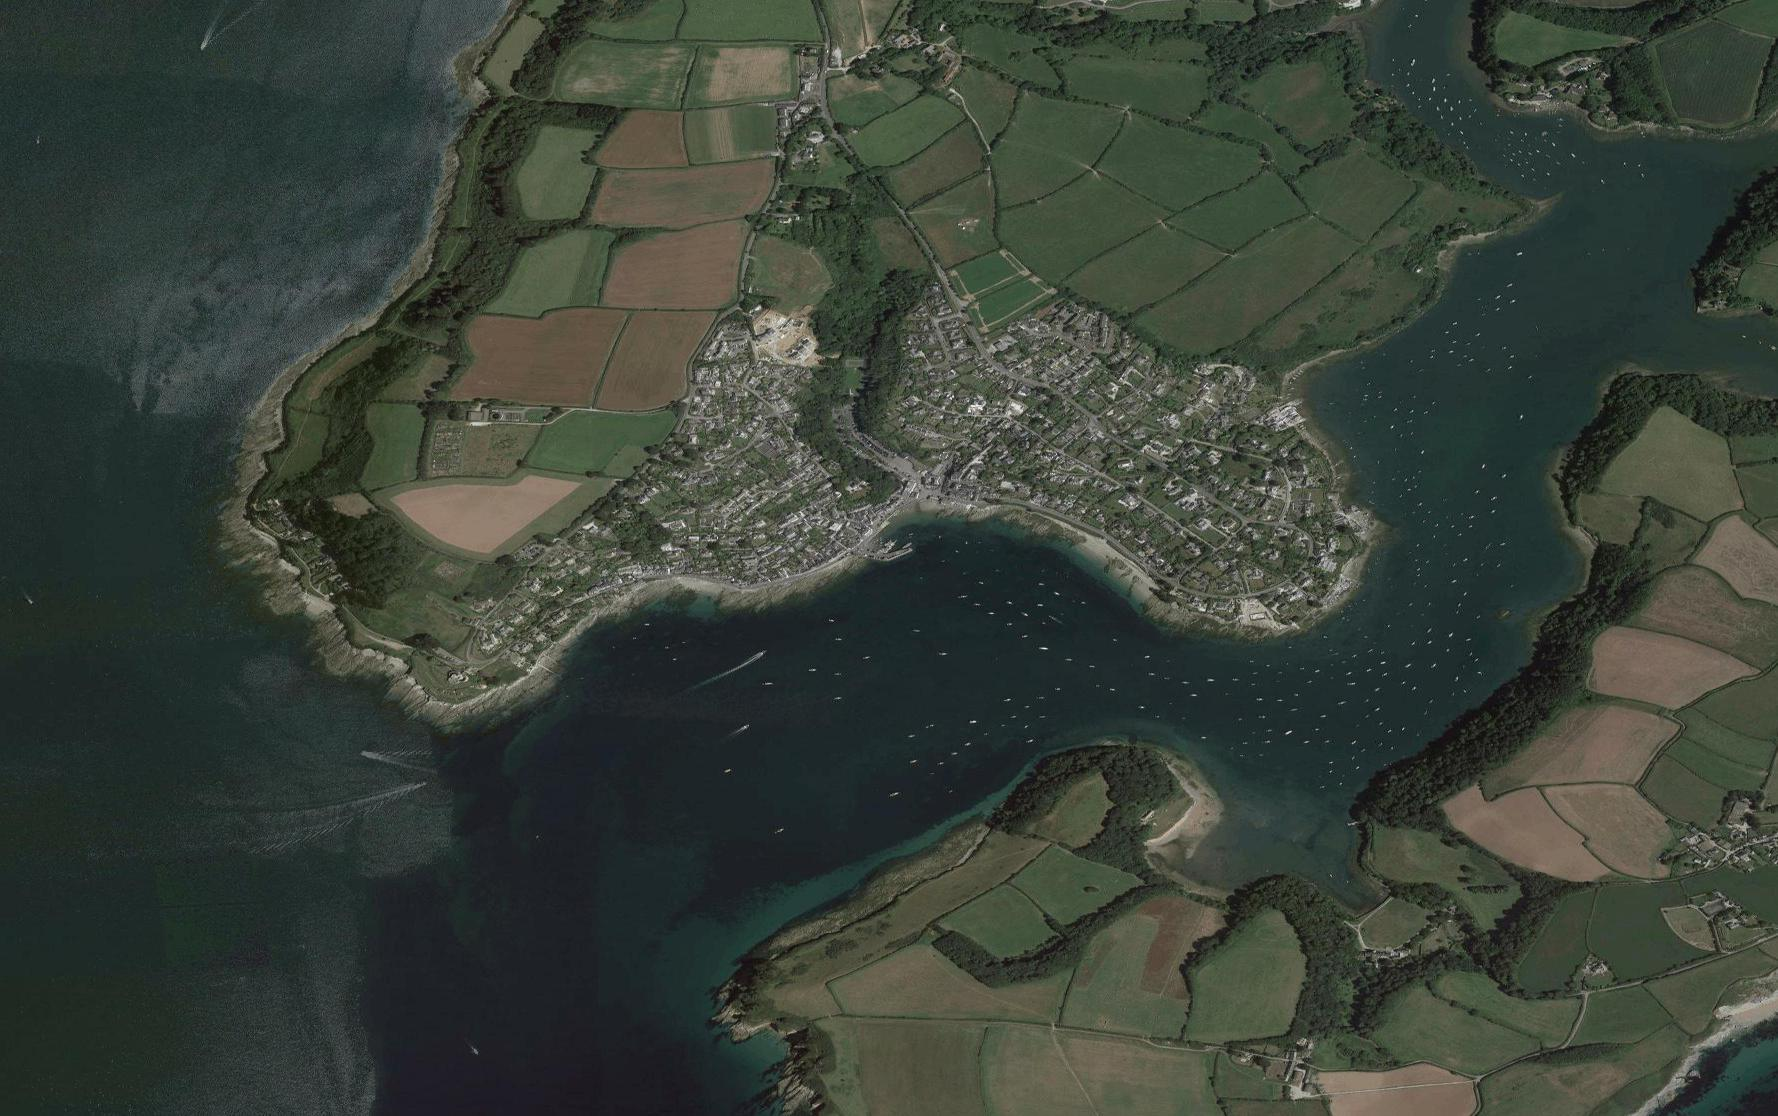harbor: (851, 510, 944, 585)
